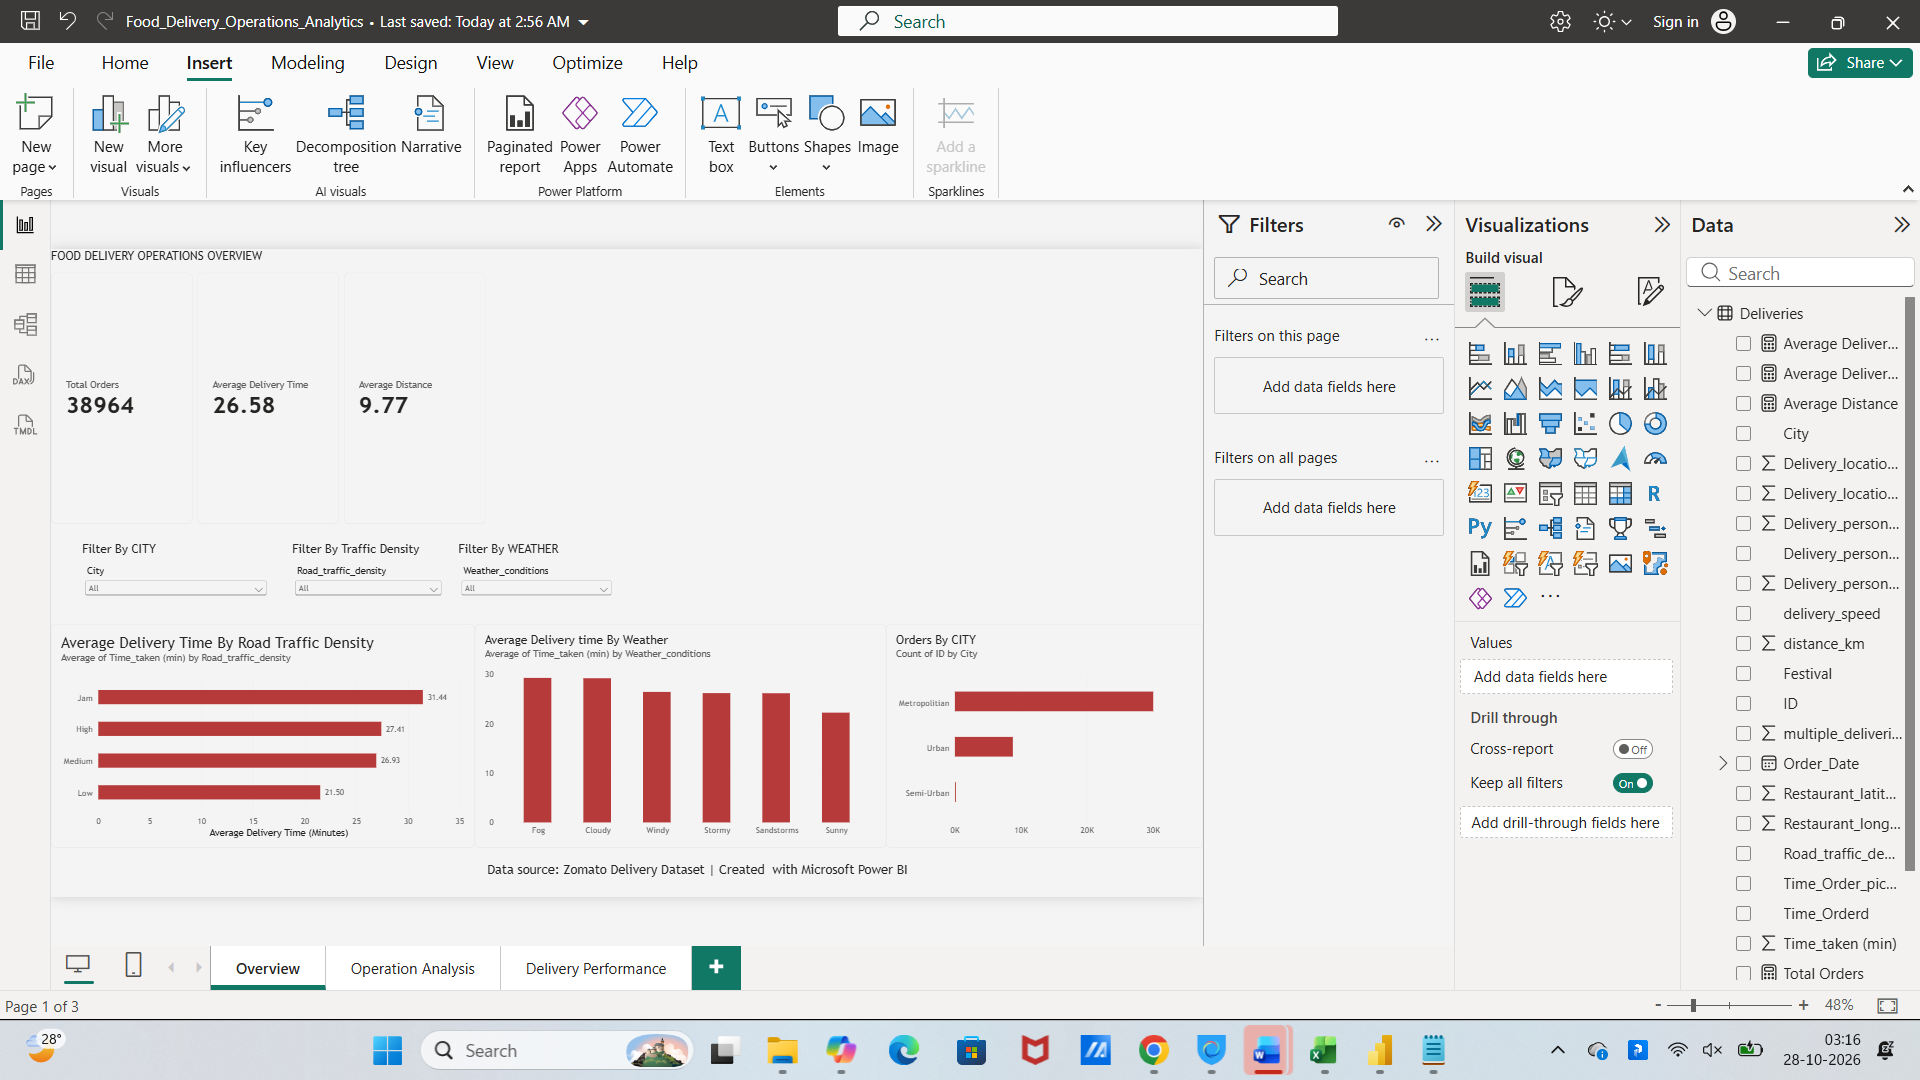

This screenshot's page, from the dashboard's own definition file:
{"tool":"powerbi","page":{"name":"Overview","canvas":[1920,1080],"ordinal":0},"visuals":[{"type":"cardVisual","title":"FOOD DELIVERY OPERATIONS OVERVIEW","fields":{"Data":["Deliveries.Total Orders","Deliveries.Average Delivery Time","Deliveries.Average Distance"]},"box":[0,0,726.9,458.2],"z":0},{"type":"clusteredBarChart","title":"Average Delivery Time By Road Traffic Density","fields":{"Category":["Deliveries.Road_traffic_density"],"Y":["Avg(Deliveries.Time_taken (min))"]},"box":[0,624.9,706.1,372.8],"z":1000},{"type":"clusteredColumnChart","title":"Average Delivery time By Weather","fields":{"Category":["Deliveries.Weather_conditions"],"Y":["Avg(Deliveries.Time_taken (min))"]},"box":[706.1,624.9,685.3,372.8],"z":2000},{"type":"clusteredBarChart","title":"Orders By CITY","fields":{"Category":["Deliveries.City"],"Y":["CountNonNull(Deliveries.ID)"]},"box":[1391.4,624.9,529.1,372.8],"z":3000},{"type":"slicer","title":"Filter By CITY","fields":{"Values":["Deliveries.City"]},"box":[52.1,487.4,312.4,170.8],"z":4000},{"type":"slicer","title":"Filter By Traffic Density","fields":{"Values":["Deliveries.Road_traffic_density"]},"box":[402,487.4,254.1,170.8],"z":5000},{"type":"slicer","title":"Filter By WEATHER","fields":{"Values":["Deliveries.Weather_conditions"]},"box":[679,487.4,260.4,108.3],"z":6000},{"type":"textbox","box":[726.9,1020.6,754,60.4],"z":6001}]}

Visuals, with their boxes on the page's 1920x1080 design canvas (x1, y1, x2, y2). These are canvas units, not pixel positions in the 1920x1080 screenshot, which may show the page scaled, cropped or inside an application window:
"FOOD DELIVERY OPERATIONS OVERVIEW" cardVisual: left=0, top=0, right=727, bottom=458
"Average Delivery Time By Road Traffic Density" clusteredBarChart: left=0, top=625, right=706, bottom=998
"Average Delivery time By Weather" clusteredColumnChart: left=706, top=625, right=1391, bottom=998
"Orders By CITY" clusteredBarChart: left=1391, top=625, right=1920, bottom=998
"Filter By CITY" slicer: left=52, top=487, right=364, bottom=658
"Filter By Traffic Density" slicer: left=402, top=487, right=656, bottom=658
"Filter By WEATHER" slicer: left=679, top=487, right=939, bottom=596
textbox: left=727, top=1021, right=1481, bottom=1081
